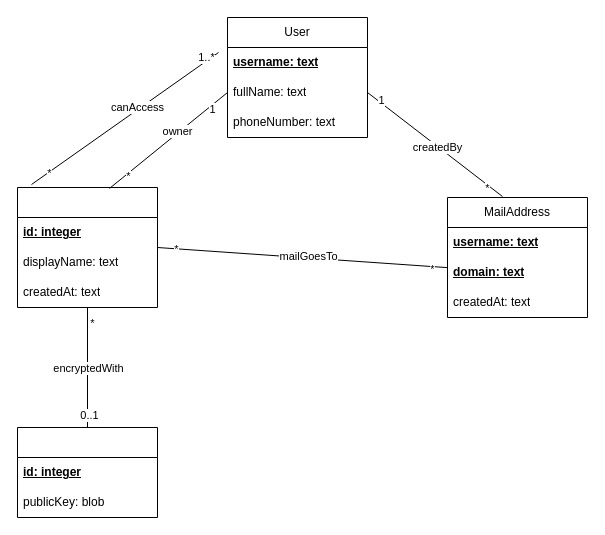
This 605x535 diagram has some shape labels left out. The box of each missing label's shape, as (x1, y1, x2, y2) in pixels:
EncryptionKey: (16, 426, 158, 518)
Inbox: (16, 186, 158, 308)
